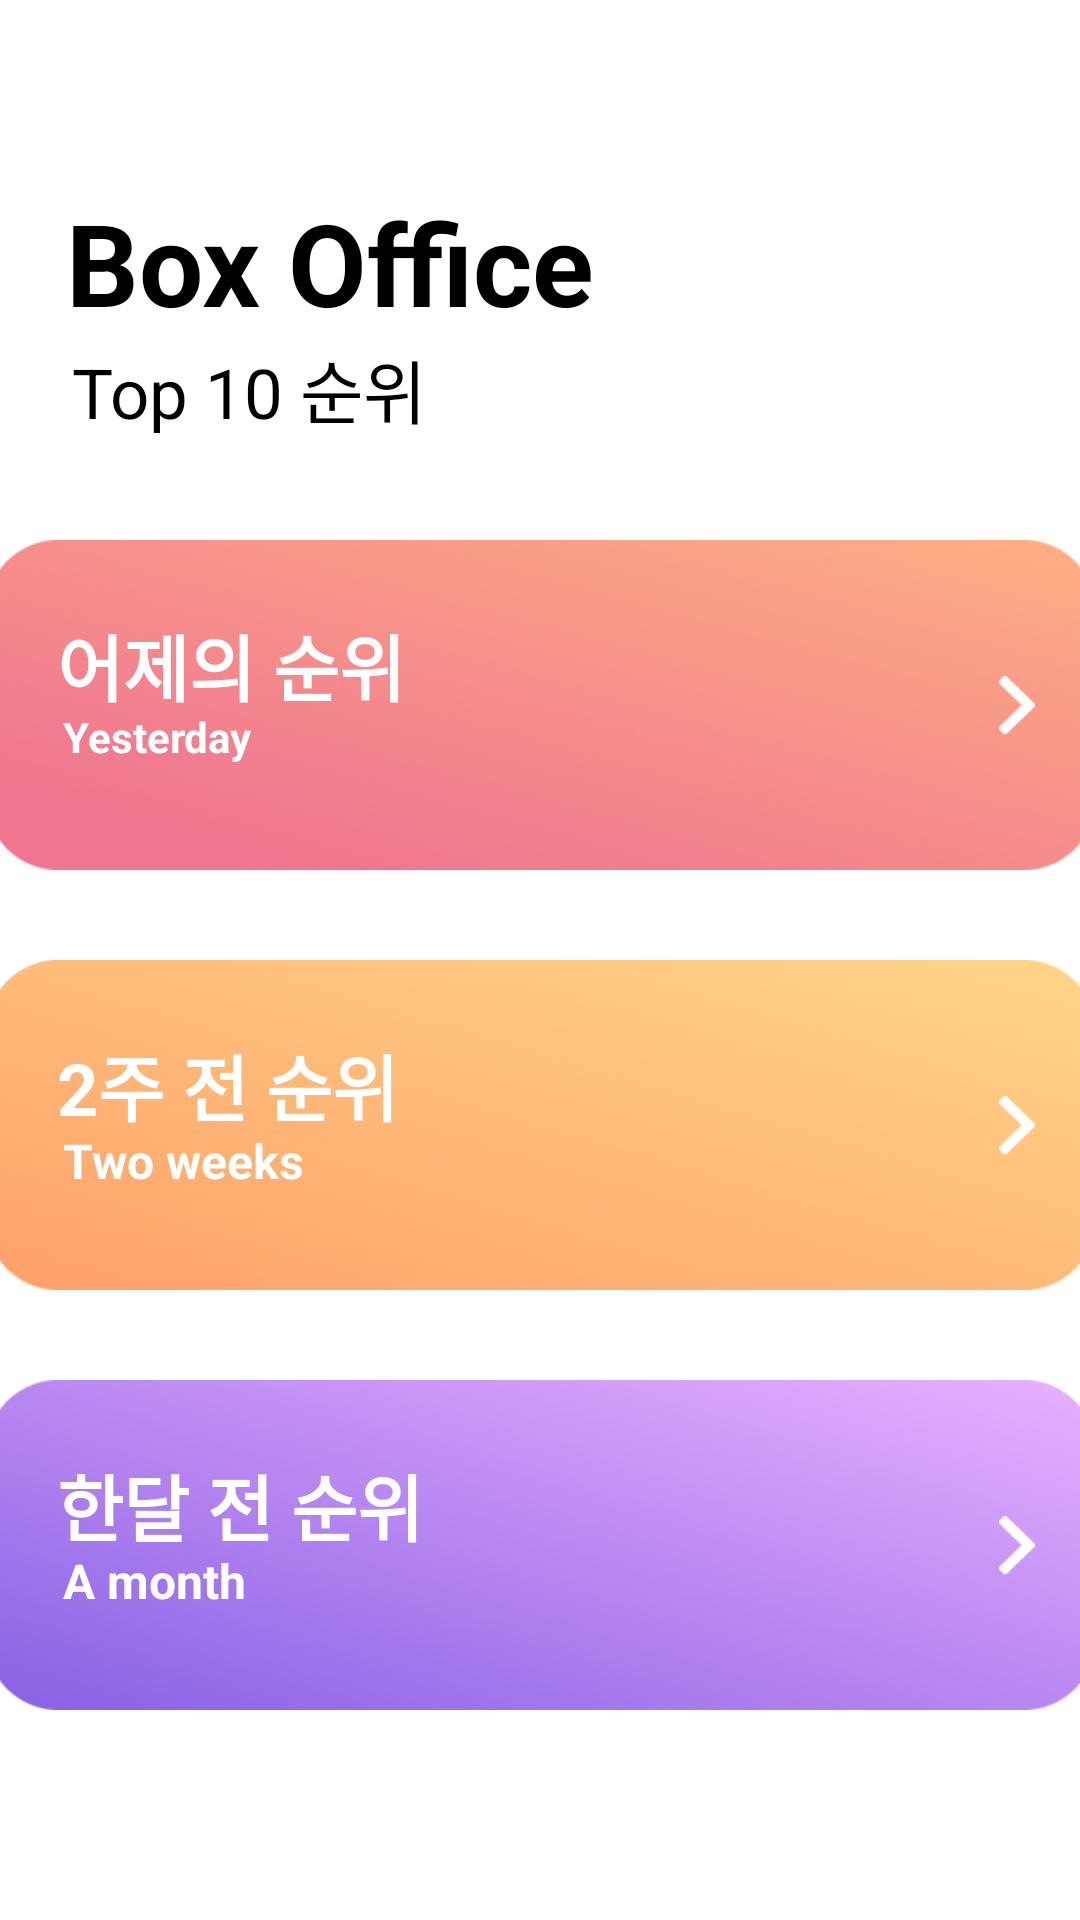

Screen size 1080w x 1920h. Icon name, then its center in pixels as (x=x, y=y):
arrow: (x=1017, y=705), (x=1017, y=1125), (x=1017, y=1545)
